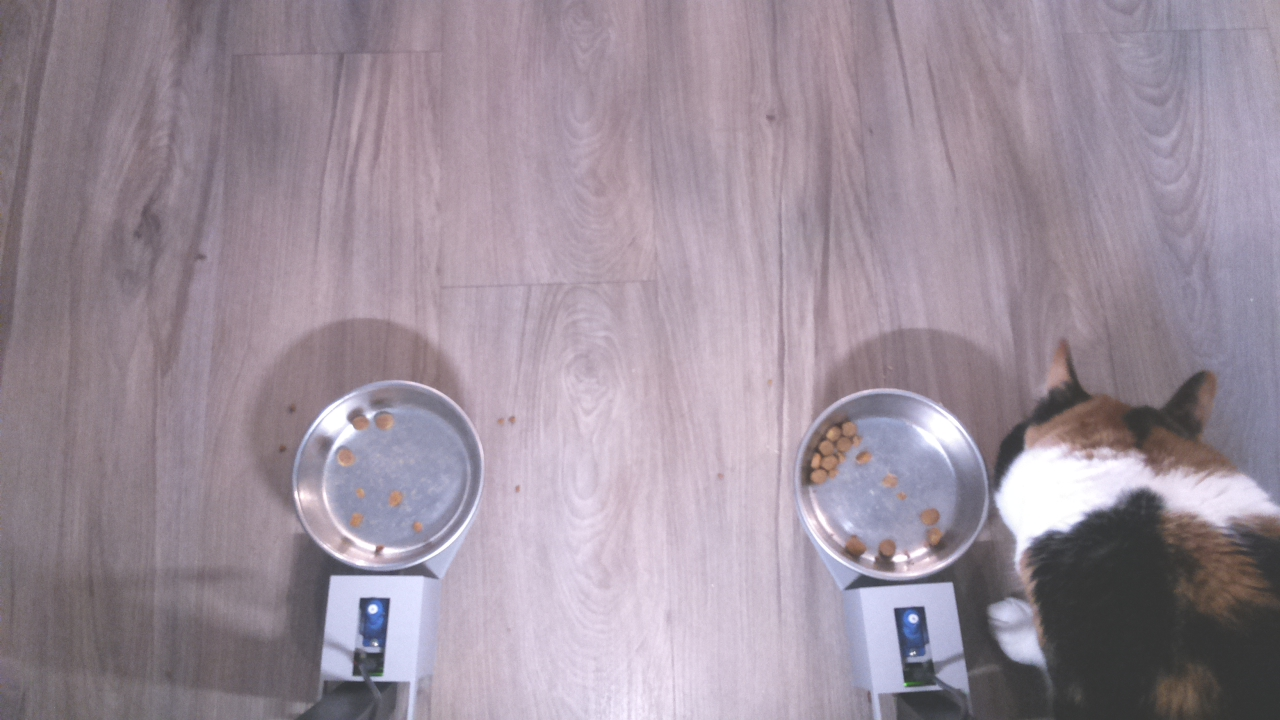bella: (997, 335, 1248, 546)
open_bowl: (286, 374, 497, 585), (790, 383, 993, 583)
